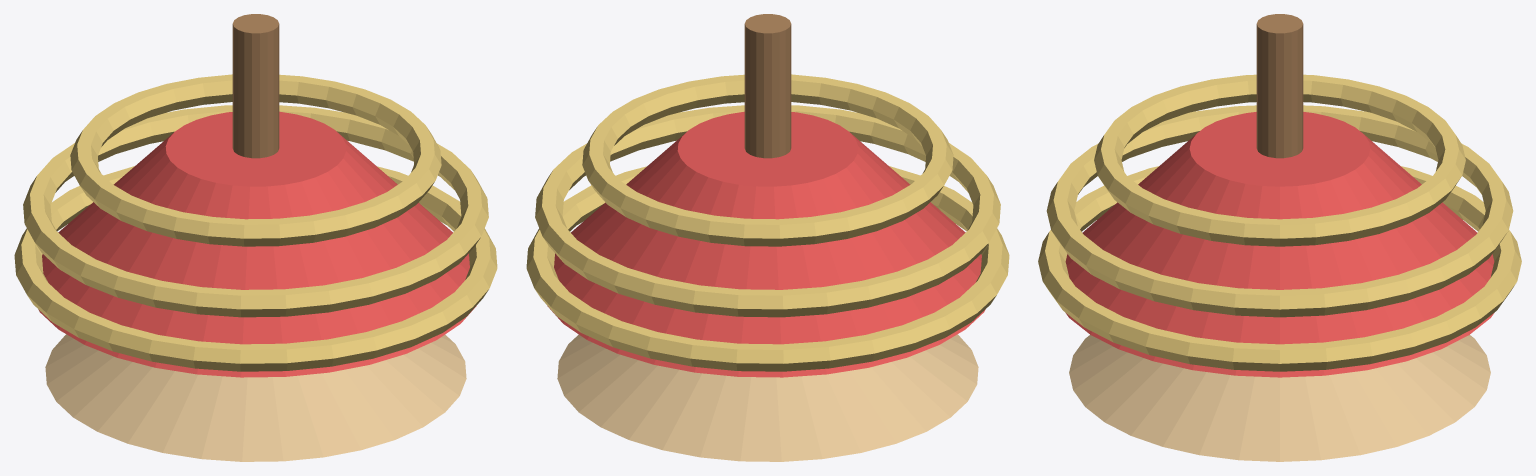
Rendered from folk_koma.glb.
The picture shows the model from 3 angles, left to right: view 1: azimuth 30°, elevation 25°; view 2: azimuth 150°, elevation 25°; view 3: azimuth 270°, elevation 25°; orthographic projection.
Parts seen in each view (by area): view 1: Traditional spinning top striped upper, Pointed tapered lower cone, Lacquer top concentric stripe.001, Lacquer top concentric stripe.002, Lacquer top concentric stripe, Turned pointed axle; view 2: Traditional spinning top striped upper, Pointed tapered lower cone, Lacquer top concentric stripe.001, Lacquer top concentric stripe.002, Lacquer top concentric stripe, Turned pointed axle; view 3: Traditional spinning top striped upper, Pointed tapered lower cone, Lacquer top concentric stripe.001, Lacquer top concentric stripe.002, Lacquer top concentric stripe, Turned pointed axle.
Boxes of the visible parts, x1=… form: Traditional spinning top striped upper: x1=38, y1=111, x2=476, y2=377; Pointed tapered lower cone: x1=45, y1=334, x2=466, y2=461; Lacquer top concentric stripe.001: x1=23, y1=105, x2=488, y2=317; Lacquer top concentric stripe.002: x1=70, y1=74, x2=441, y2=246; Lacquer top concentric stripe: x1=14, y1=166, x2=497, y2=371; Turned pointed axle: x1=232, y1=14, x2=279, y2=158; Traditional spinning top striped upper: x1=547, y1=111, x2=985, y2=377; Pointed tapered lower cone: x1=557, y1=334, x2=978, y2=461; Lacquer top concentric stripe.001: x1=535, y1=105, x2=1000, y2=317; Lacquer top concentric stripe.002: x1=582, y1=74, x2=953, y2=246; Lacquer top concentric stripe: x1=526, y1=166, x2=1009, y2=371; Turned pointed axle: x1=744, y1=14, x2=791, y2=158; Traditional spinning top striped upper: x1=1065, y1=112, x2=1494, y2=377; Pointed tapered lower cone: x1=1069, y1=335, x2=1490, y2=461; Lacquer top concentric stripe.001: x1=1046, y1=105, x2=1513, y2=317; Lacquer top concentric stripe.002: x1=1094, y1=74, x2=1465, y2=246; Lacquer top concentric stripe: x1=1038, y1=166, x2=1521, y2=371; Turned pointed axle: x1=1256, y1=14, x2=1303, y2=158.
Bounding box in the file's own units: 1.95 × 1.55 × 1.95.
